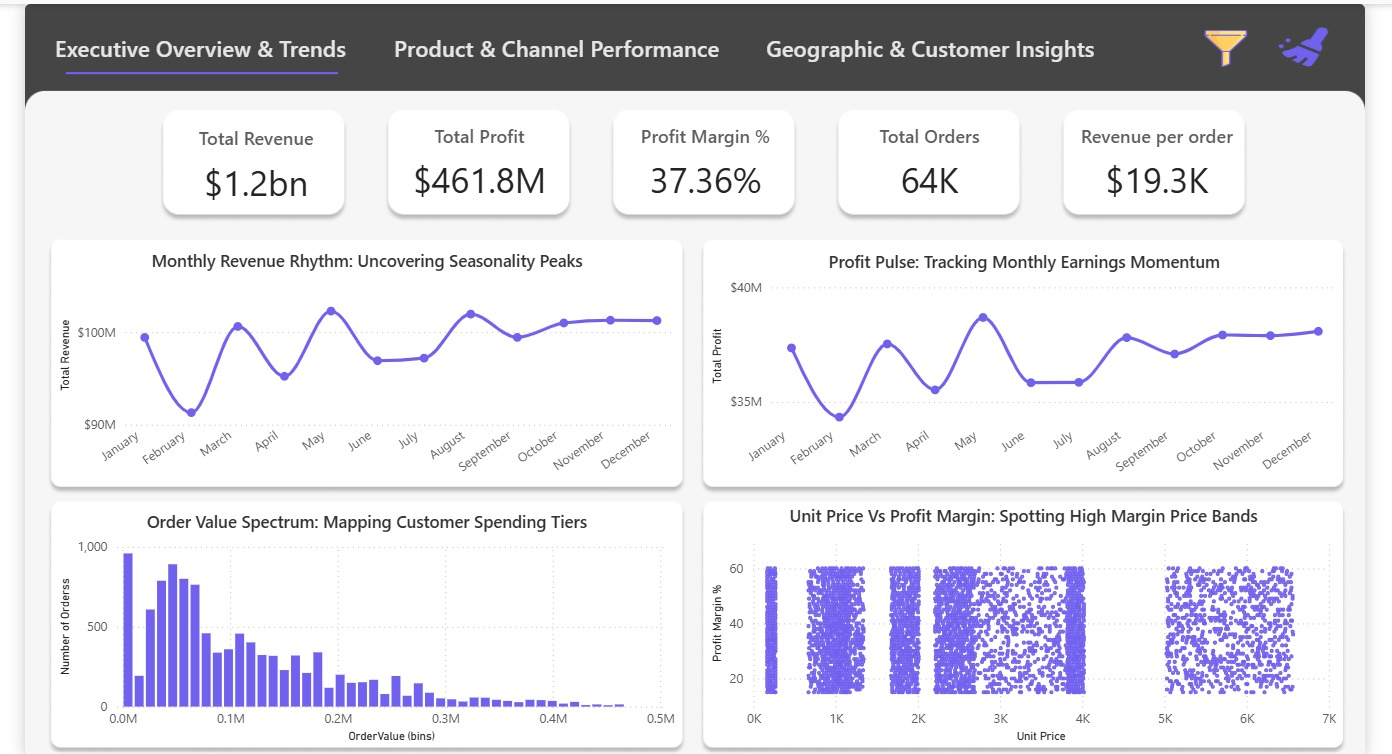

The page's visual inventory and layout, read from the dashboard file:
{"tool":"powerbi","page":{"name":"Executive Overview & Trends","canvas":[1280,720],"ordinal":0},"visuals":[{"type":"cardVisual","fields":{"Data":["Measures_.Total Revenue"]},"box":[142,101,158,104],"z":0},{"type":"cardVisual","fields":{"Data":["Measures_.Total Profit"]},"box":[350,100,169.2,103.8],"z":1000},{"type":"cardVisual","fields":{"Data":["Measures_.Profit Margin %"]},"box":[552.6,100,194.9,103.8],"z":2000},{"type":"cardVisual","fields":{"Data":["Measures_.Total Orders"]},"box":[787.2,100,152.6,103.8],"z":3000},{"type":"cardVisual","fields":{"Data":["Measures_.Revenue per order"]},"box":[988.3,100,185,103.3],"z":4000},{"type":"lineChart","title":"Monthly Revenue Rhythm: Uncovering Seasonality Peaks","fields":{"Category":["Sales_data.order_month_name"],"Y":["Measures_.Total Revenue"]},"box":[26.9,233.3,598.7,235.9],"z":5000},{"type":"lineChart","title":"Profit Pulse: Tracking Monthly Earnings Momentum","fields":{"Category":["Sales_data.order_month_name"],"Y":["Measures_.Total Profit"]},"box":[650,234.6,607.7,234.6],"z":6000},{"type":"scatterChart","title":"Unit Price Vs Profit Margin: Spotting High Margin Price Bands","fields":{"X":["Sales_data.unit_price"],"Y":["Sales_data.profit_margin_pct"]},"box":[650,476.9,606.4,232.1],"z":7000},{"type":"columnChart","title":"Order Value Spectrum: Mapping Customer Spending Tiers","fields":{"Category":["Order_Value_Distribution.OrderValue (bins)"],"Y":["CountNonNull(Order_Value_Distribution.order_number)"]},"box":[26.9,482.1,598.7,226.9],"z":8000},{"type":"actionButton","box":[337.2,14.1,342.3,55.1],"z":10000},{"type":"actionButton","box":[9,14.1,317.9,55.1],"z":11000},{"type":"actionButton","box":[693.8,13.8,342.5,55],"z":12000},{"type":"actionButton","box":[1188,14,70,55],"z":14000},{"type":"actionButton","box":[1120,21,53,42],"z":14500}]}

Visuals, with their boxes on the page's 1280x720 design canvas (x1, y1, x2, y2). These are canvas units, not pixel positions in the 1392x754 screenshot, which may show the page scaled, cropped or inside an application window:
cardVisual - Measures_.Total Revenue: [x1=142, y1=101, x2=300, y2=205]
cardVisual - Measures_.Total Profit: [x1=350, y1=100, x2=519, y2=204]
cardVisual - Measures_.Profit Margin %: [x1=553, y1=100, x2=748, y2=204]
cardVisual - Measures_.Total Orders: [x1=787, y1=100, x2=940, y2=204]
cardVisual - Measures_.Revenue per order: [x1=988, y1=100, x2=1173, y2=203]
"Monthly Revenue Rhythm: Uncovering Seasonality Peaks" lineChart: [x1=27, y1=233, x2=626, y2=469]
"Profit Pulse: Tracking Monthly Earnings Momentum" lineChart: [x1=650, y1=235, x2=1258, y2=469]
"Unit Price Vs Profit Margin: Spotting High Margin Price Bands" scatterChart: [x1=650, y1=477, x2=1256, y2=709]
"Order Value Spectrum: Mapping Customer Spending Tiers" columnChart: [x1=27, y1=482, x2=626, y2=709]
actionButton: [x1=337, y1=14, x2=680, y2=69]
actionButton: [x1=9, y1=14, x2=327, y2=69]
actionButton: [x1=694, y1=14, x2=1036, y2=69]
actionButton: [x1=1188, y1=14, x2=1258, y2=69]
actionButton: [x1=1120, y1=21, x2=1173, y2=63]
